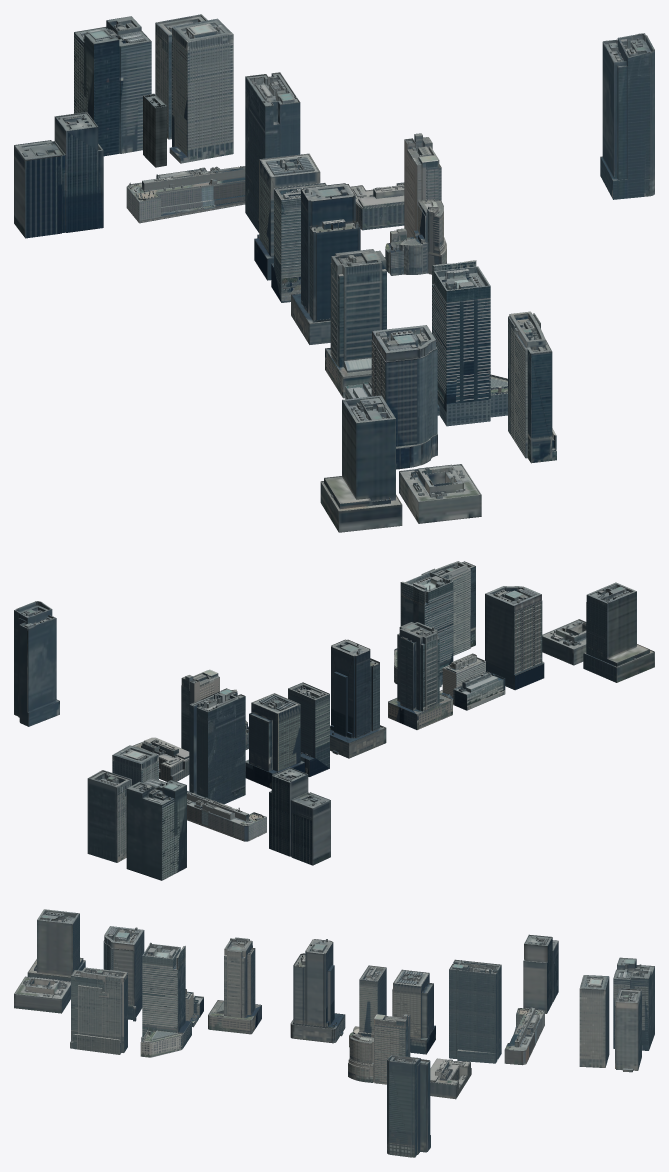
Rendered from omy-buildings.glb.
3 renders of one model, top to bottom at view 1: azimuth 30°, elevation 25°; view 2: azimuth 150°, elevation 25°; view 3: azimuth 270°, elevation 25°, orthographic. The views are drawn at different scales.
Visible parts, largest first — view 1: JPタワー, 大手町パークビルディング, 大手町フィナンシャルシティ グランキューブ, 常盤橋タワー, 大手町フィナンシャルシティ サウスタワー, 丸の内二重橋ビル, 丸の内パークビルディング, 丸の内ビルディング, 新丸の内ビルディング, 東京ビルディング, 大手町タワー, 大手町ビル (+8 smaller); view 2: 大手町タワー, 大手町フィナンシャルシティ グランキューブ, 丸の内パークビルディング, 新丸の内ビルディング, 丸の内二重橋ビル, 常盤橋タワー, 大手町パークビルディング, 丸の内ビルディング, 丸の内永楽ビルディング, 大手町フィナンシャルシティ ノースタワー, JPタワー, 三菱UFJ信託銀行本店ビル (+8 smaller); view 3: 大手町タワー, JPタワー, 東京ビルディング, 常盤橋タワー, 新丸の内ビルディング, 丸の内ビルディング, 丸の内二重橋ビル, 大手町フィナンシャルシティ サウスタワー, 丸の内永楽ビルディング, 大手町パークビルディング, 丸の内パークビルディング, 大手町フィナンシャルシティ ノースタワー (+7 smaller).
Boxes of the visible parts, x1,y1,x2,y2 form: JPタワー: (432,260,507,426); 大手町パークビルディング: (14,112,103,238); 大手町フィナンシャルシティ グランキューブ: (74,16,151,156); 常盤橋タワー: (600,33,654,199); 大手町フィナンシャルシティ サウスタワー: (169,18,233,163); 丸の内二重橋ビル: (320,395,402,532); 丸の内パークビルディング: (371,325,437,469); 丸の内ビルディング: (325,249,386,398); 新丸の内ビルディング: (291,183,360,344); 東京ビルディング: (508,311,556,463); 大手町タワー: (245,72,300,232); 大手町ビル: (126,166,245,223); 大手町タワー: (189,688,245,804); 大手町フィナンシャルシティ グランキューブ: (126,778,186,880); 丸の内パークビルディング: (485,586,544,690); 新丸の内ビルディング: (330,639,386,758); 丸の内二重橋ビル: (583,582,654,682); 常盤橋タワー: (14,601,59,726); 大手町パークビルディング: (269,767,330,865); 丸の内ビルディング: (388,622,452,729); 丸の内永楽ビルディング: (245,693,304,788); 大手町フィナンシャルシティ ノースタワー: (87,770,131,862); JPタワー: (394,572,453,687); 三菱UFJ信託銀行本店ビル: (288,682,329,776); 大手町タワー: (449,959,501,1063); JPタワー: (140,942,191,1057); 東京ビルディング: (70,967,127,1054); 常盤橋タワー: (387,1055,430,1157); 新丸の内ビルディング: (290,939,345,1043); 丸の内ビルディング: (208,937,261,1034); 丸の内二重橋ビル: (27,909,85,981); 大手町フィナンシャルシティ サウスタワー: (579,975,609,1067); 丸の内永楽ビルディング: (392,969,435,1054); 大手町パークビルディング: (523,934,558,1013); 丸の内パークビルディング: (103,926,144,1021); 大手町フィナンシャルシティ ノースタワー: (615,988,641,1072).
Size of the model in its own units: 917 by 218 by 1314.
139 materials, 139 textured.
